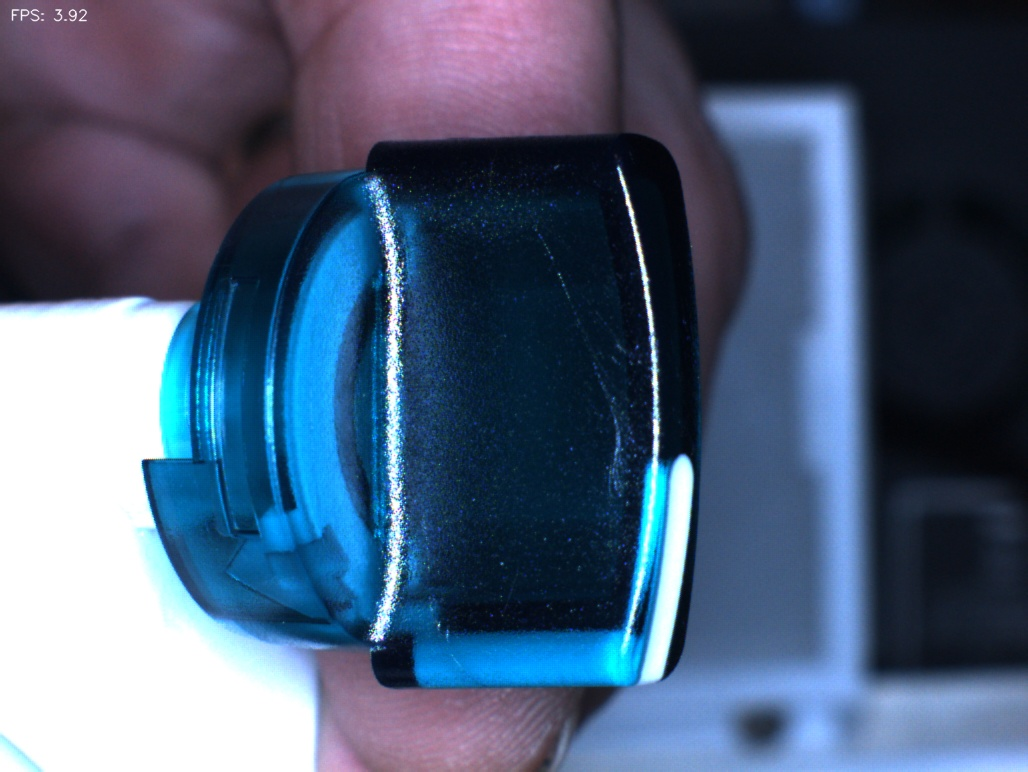Givrage: (554, 289, 664, 498)
